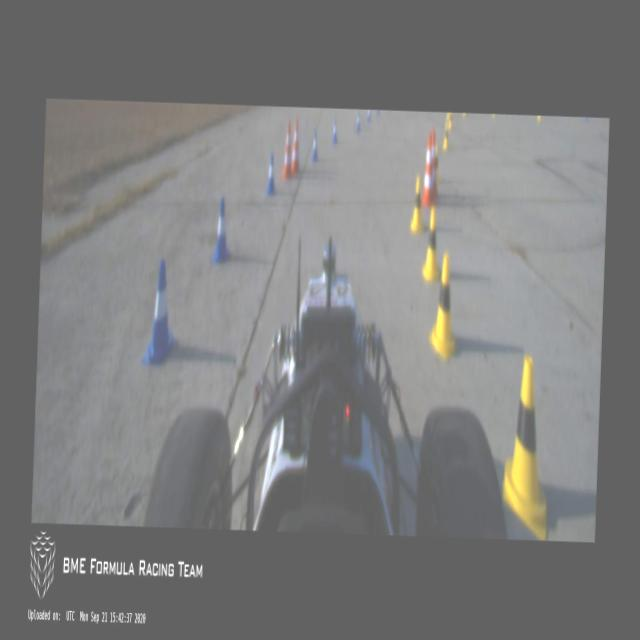blue_cone: (140, 260, 178, 369), (210, 196, 232, 266), (264, 152, 278, 196), (310, 128, 318, 162), (331, 118, 337, 146), (355, 110, 361, 132)
large_orange_cone: (420, 132, 436, 208), (428, 130, 440, 203), (280, 120, 292, 180), (292, 119, 302, 174)
yellow_cone: (500, 352, 552, 540), (428, 252, 461, 362), (420, 205, 442, 283), (410, 177, 426, 236), (442, 123, 450, 151), (434, 146, 439, 184), (448, 112, 453, 131)
